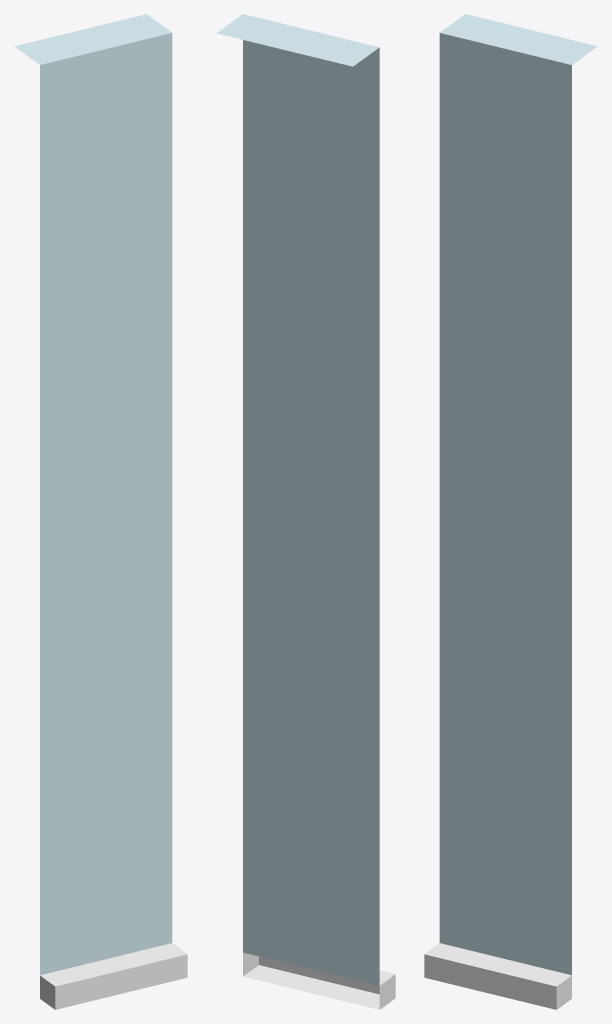
File: 26_wall.FBX
3 renders of one model, left to right at view 1: azimuth 30°, elevation 25°; view 2: azimuth 150°, elevation 25°; view 3: azimuth 330°, elevation 25°, orthographic. The views are drawn at different scales.
Visible parts, largest first — view 1: 26_wall; view 2: 26_wall; view 3: 26_wall.
Part boxes in pixels (bbox=[...]): 26_wall: bbox=[14, 14, 187, 1009]; 26_wall: bbox=[216, 14, 395, 1009]; 26_wall: bbox=[424, 14, 597, 1009].
Bounding box in the file's own units: 64.11 × 432 × 34.48.
